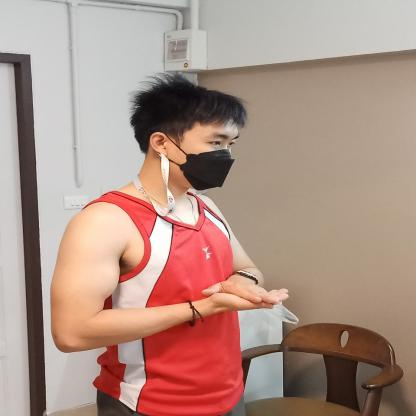Love: (148, 266, 325, 328)
